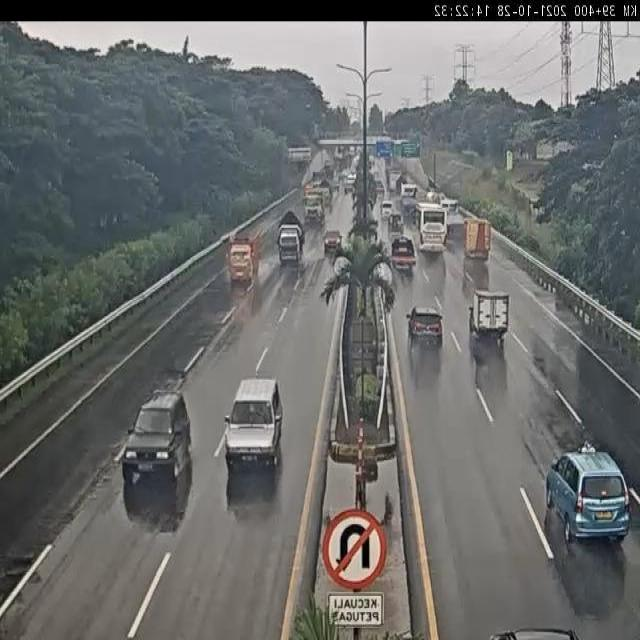Bus: (416, 201, 448, 254)
Car: (545, 446, 631, 542), (123, 388, 193, 485), (226, 374, 286, 470), (406, 305, 444, 349), (323, 230, 343, 256), (381, 200, 393, 219)
Truck: (470, 288, 510, 345), (227, 233, 260, 288), (276, 210, 304, 268), (463, 218, 491, 260), (440, 197, 468, 236), (390, 236, 416, 273), (400, 183, 422, 217), (303, 193, 325, 226)
